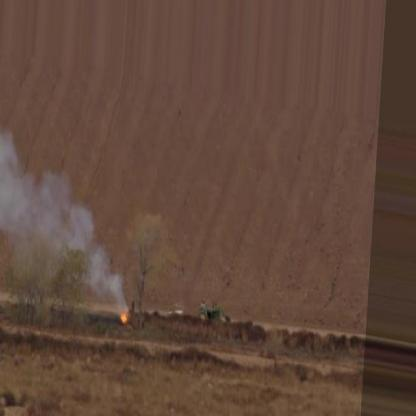fire: (115, 299, 132, 334)
